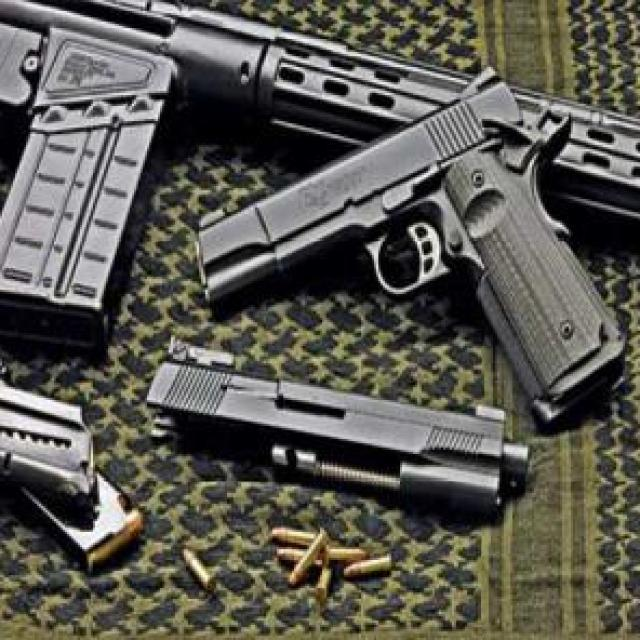pistol: (197, 61, 631, 416)
